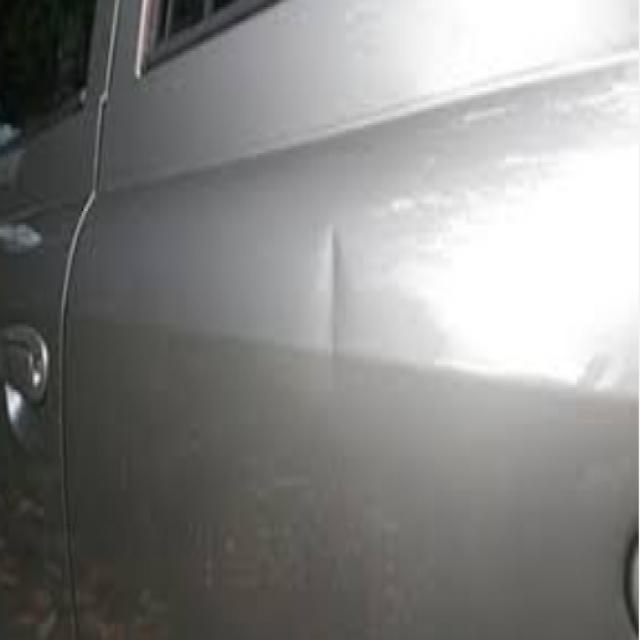dents: (320, 216, 350, 408), (567, 330, 615, 425)
